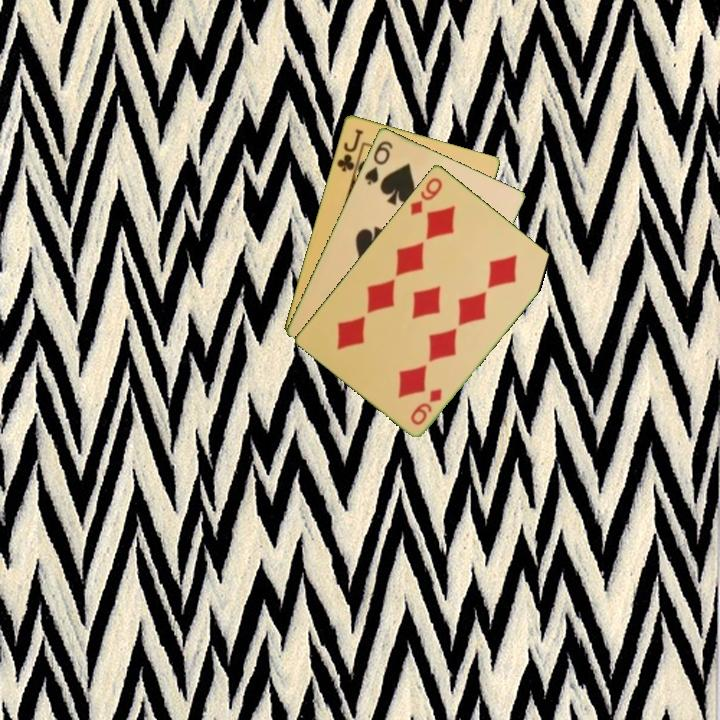6s: (361, 137, 396, 188)
9d: (407, 173, 445, 218), (407, 385, 445, 428)
Jc: (333, 125, 366, 174)
